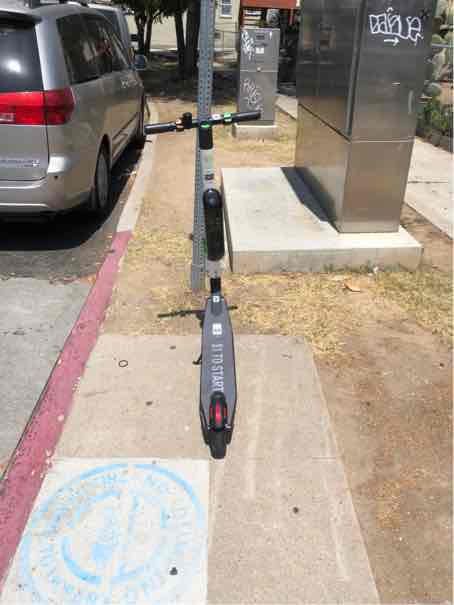scooter: (130, 105, 283, 473)
